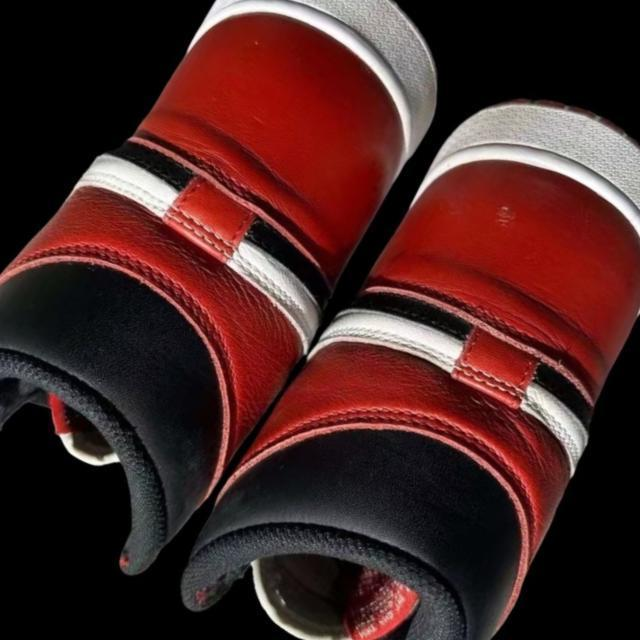nike_original_jordan: (157, 41, 640, 640), (0, 0, 483, 588)
